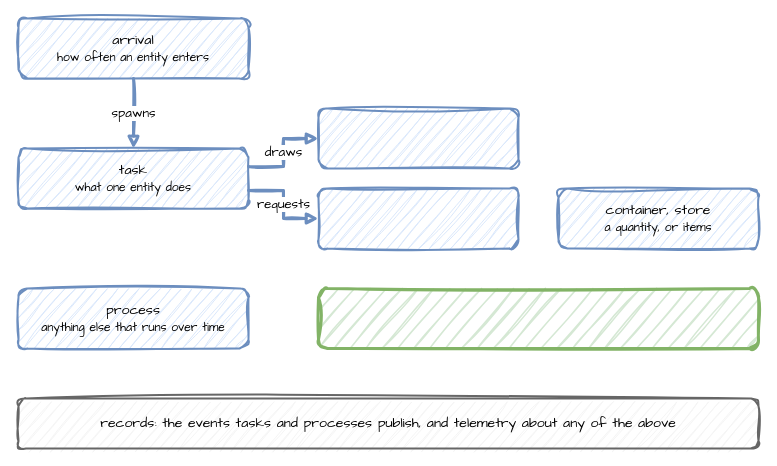
Some shapes in this 777 by 466 pixel diagram are drawn without their labels. Each missing label, with the centre of its shape:
"registry every value above, live" belongs at (538,318).
"resource what the work holds: units" belongs at (418,218).
"service how long the work takes" belongs at (418,138).
